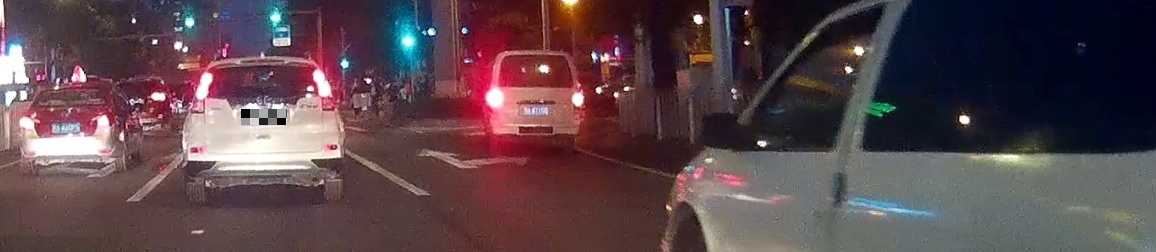L_light: (189, 72, 213, 115), (488, 88, 502, 114), (20, 117, 34, 130)
R_light: (313, 69, 336, 112), (95, 113, 111, 128), (572, 91, 583, 112)
T_light: (247, 65, 274, 71), (65, 88, 84, 94), (529, 55, 544, 60)
night-left: (488, 50, 584, 153)
night-no: (183, 57, 346, 199), (20, 80, 112, 172)
plate_1: (241, 109, 287, 125)
